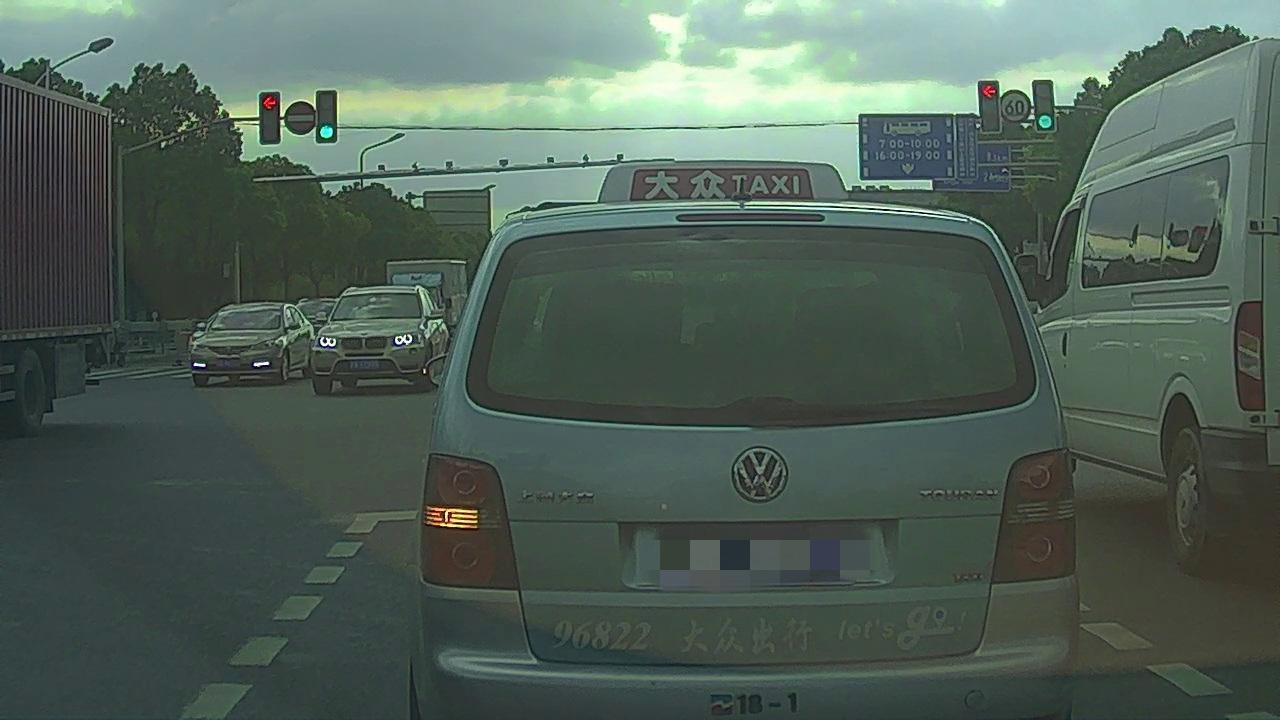traffic_light: (315, 89, 339, 143), (978, 82, 1002, 132), (1032, 81, 1055, 128), (261, 92, 280, 142)
